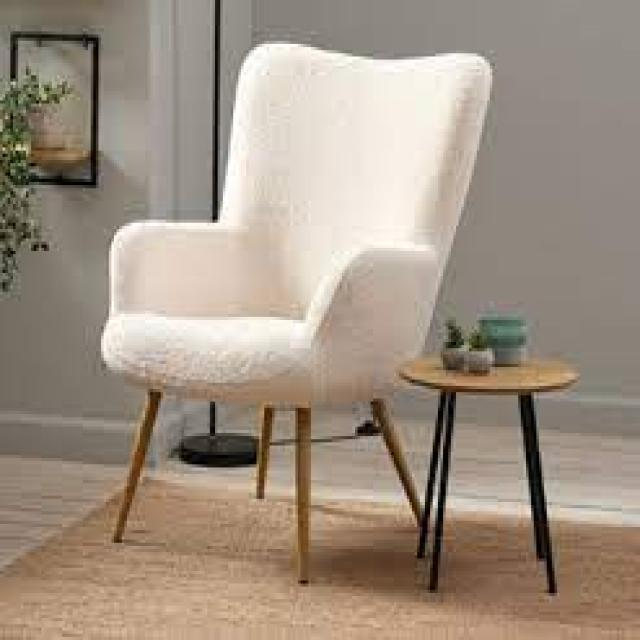chair: (64, 25, 498, 609)
